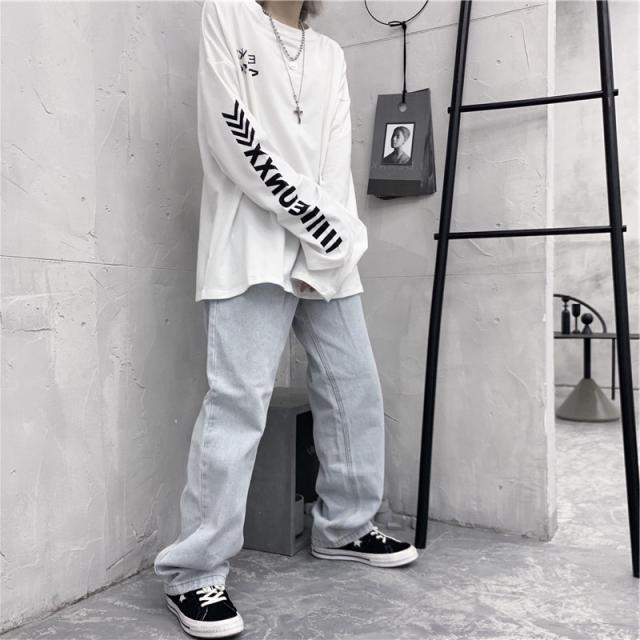long sleeve shirt: (186, 0, 372, 306)
trousers: (148, 283, 387, 599)
